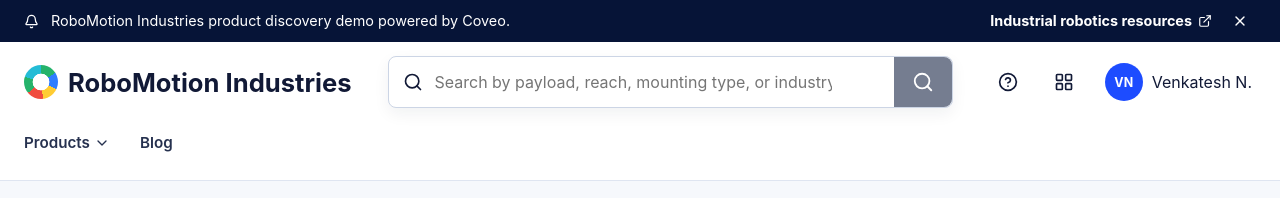
Test: Header › clears the query through the default uncontrolled search state
Type "servo motor" into the dropdown labelled "Search". click: [633, 82]
box: [432,71,834,93]
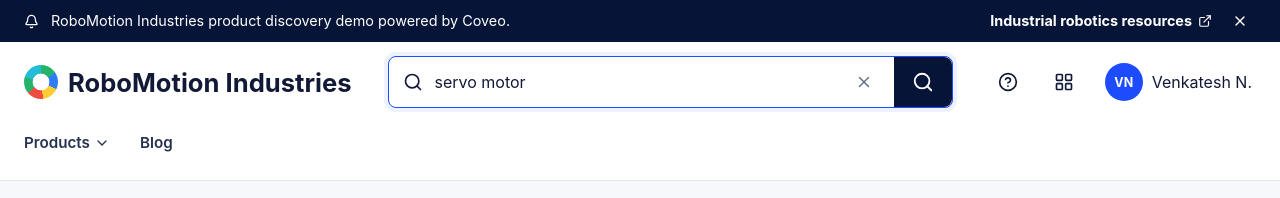
Click the button named "Clear search". click: [864, 82]
box: [844,62,884,102]
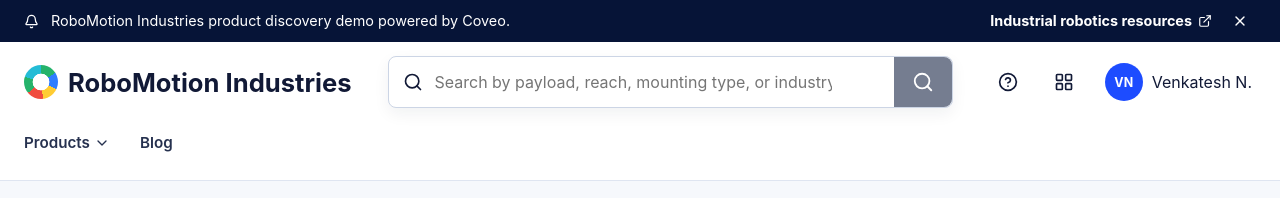
Check: the dropdown labelled "Search" is empty, box [432,71,834,93]
